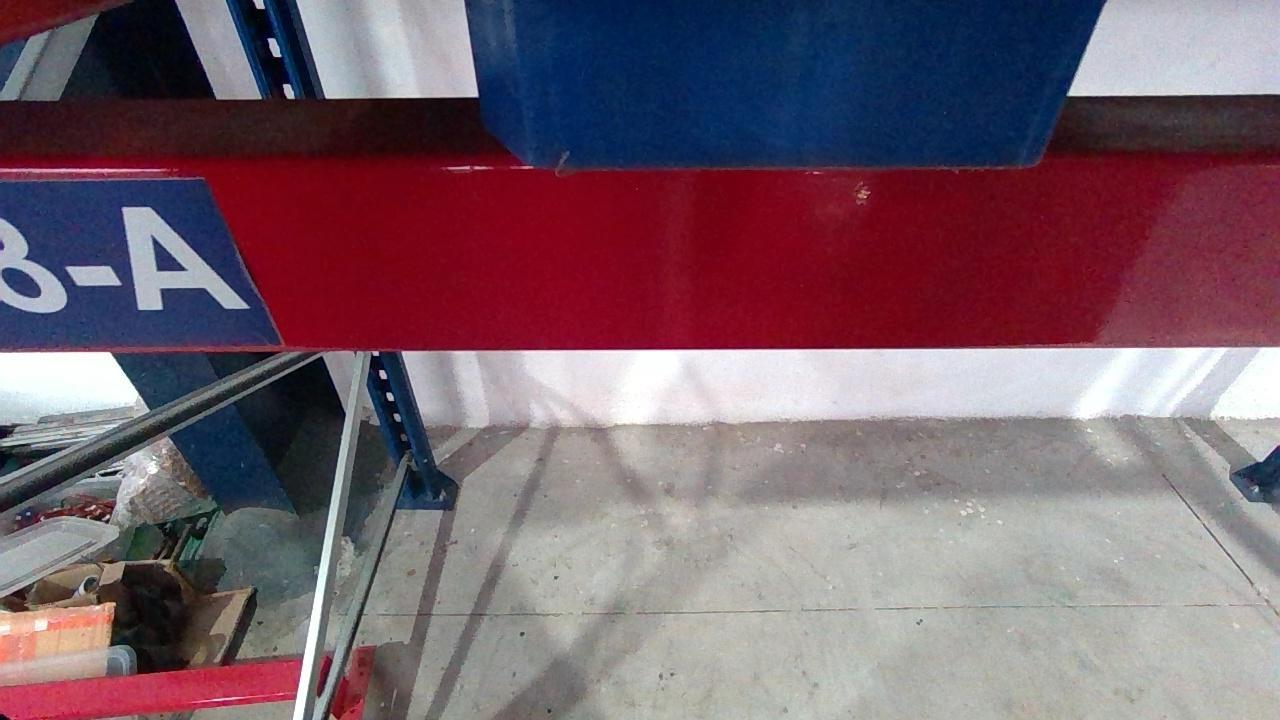h_rack: (0, 161, 1280, 354)
